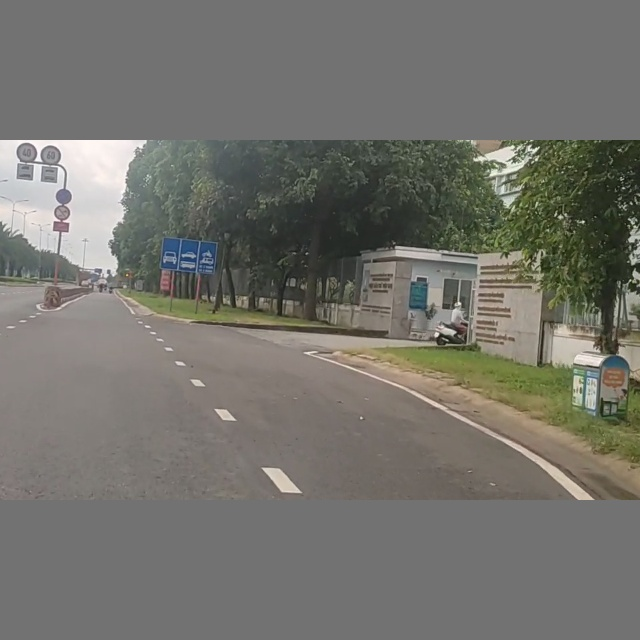P.127*40: (15, 143, 37, 162)
P.127*60: (41, 145, 62, 164)
R.415a: (159, 235, 218, 275)
